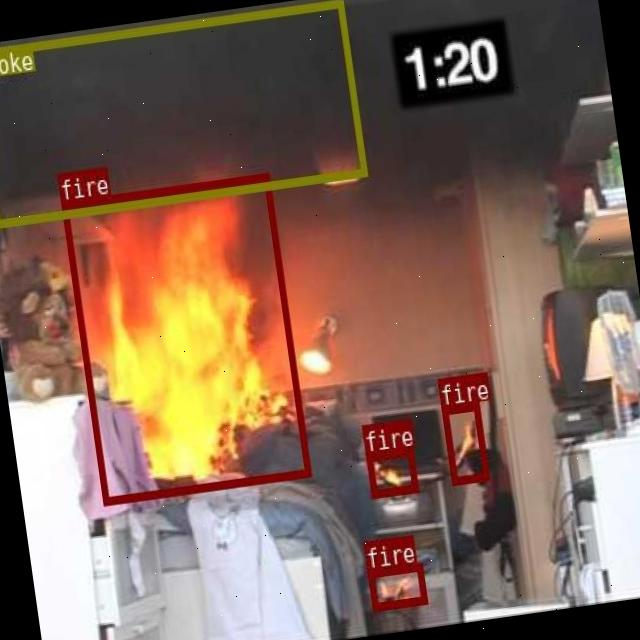fire: (60, 173, 309, 503), (440, 401, 488, 484), (367, 560, 426, 610), (364, 446, 416, 496)
smoke: (0, 0, 367, 226)
